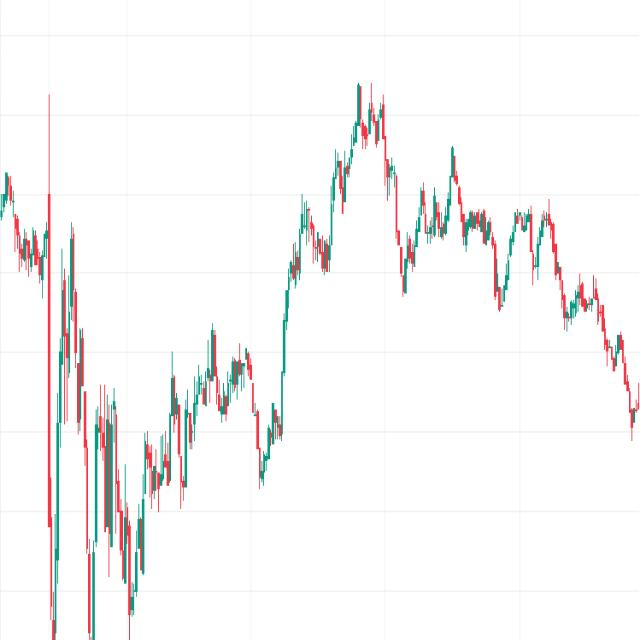Resistance-Emerging: (387, 140, 578, 324)
Rising-Wedge: (291, 88, 368, 293)
